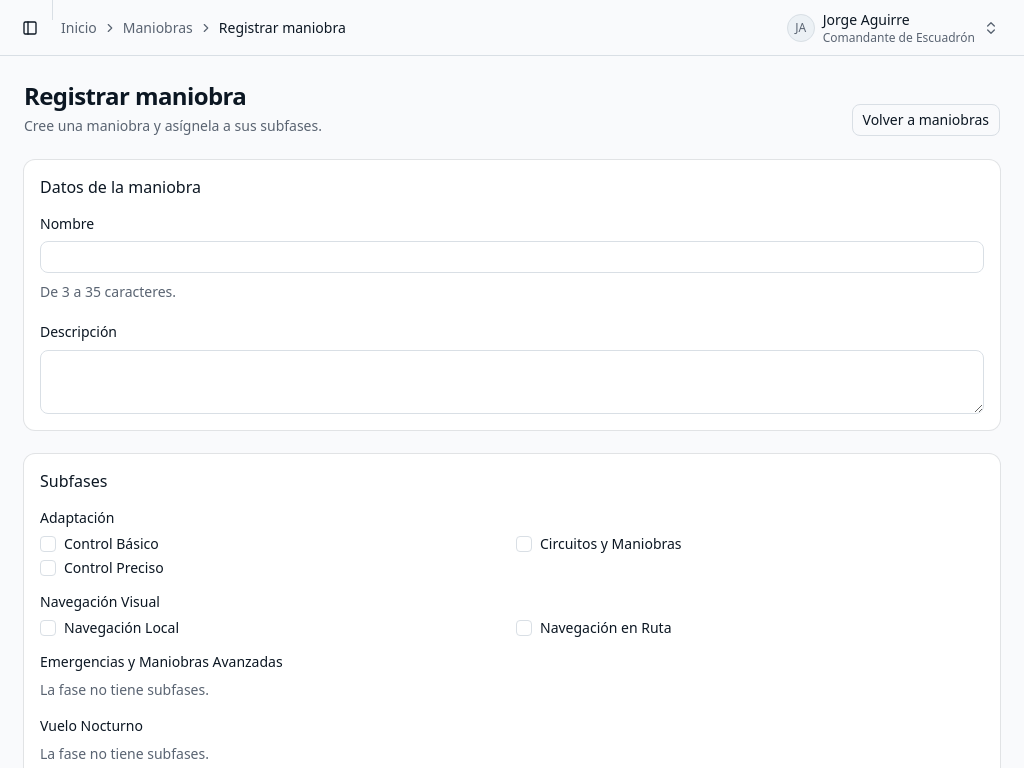
Test: Formulario de maniobra › CA-MAN-02 registra una maniobra con sus subfases agrupadas por fase
The width and height of the screenshot is (1024, 768).
Expected: the text "Adaptación" is shown, [40,508,114,526]
Expected: the number of checkboxes is 5, [40,536,56,552]; [516,536,532,552]; [40,560,56,576]; [40,620,56,636]; [516,620,532,636]
Type "Autorrotación doble" into the field labelled "Nombre".
click(512, 257); type("Autorrotación doble")  # box [40,241,984,273]
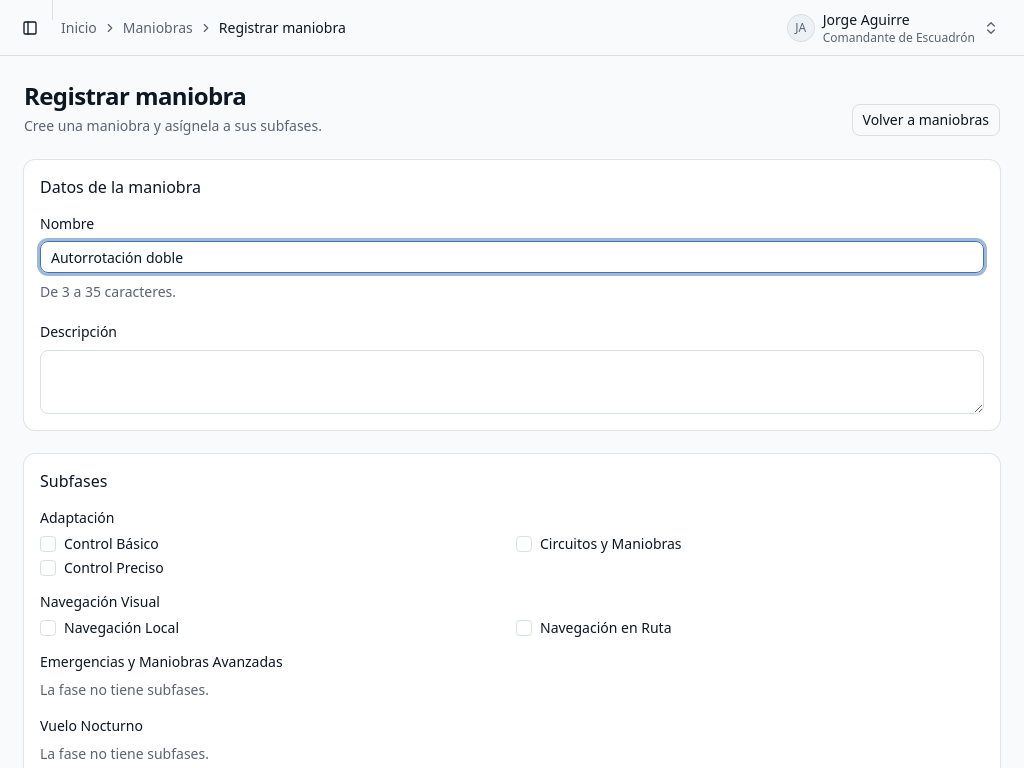
Type "Aterrizaje sin potencia" into the text box labelled "Descripción".
click(512, 382); type("Aterrizaje sin potencia")  # box [40,350,984,414]
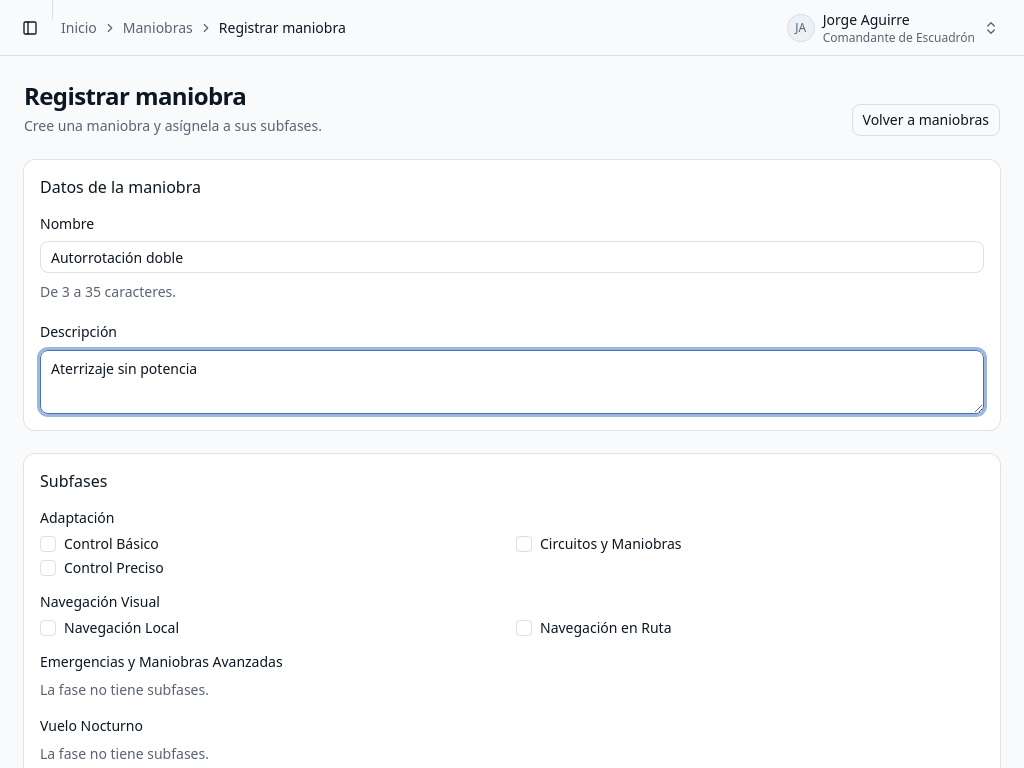
Click the checkbox named "Circuitos y Maniobras" next to "Circuitos y Maniobras".
click(524, 544)  # box [516,536,532,552]
(page scrolled)
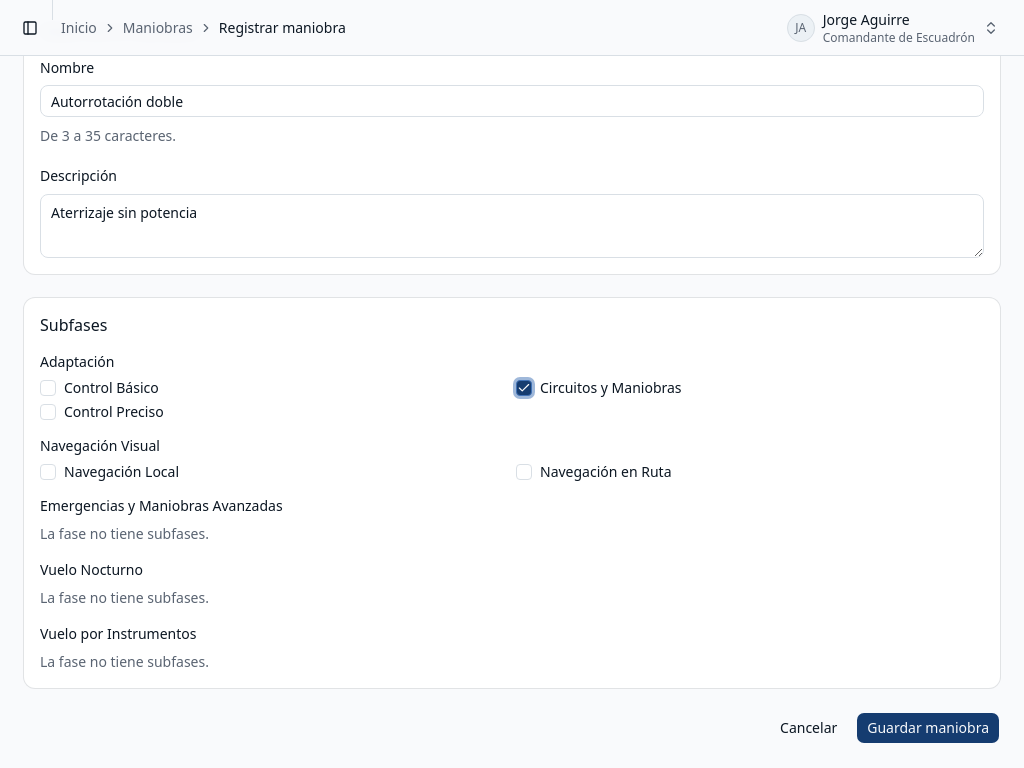
Click the button "Guardar maniobra".
click(928, 728)  # box [856,712,1000,744]
(page scrolled)
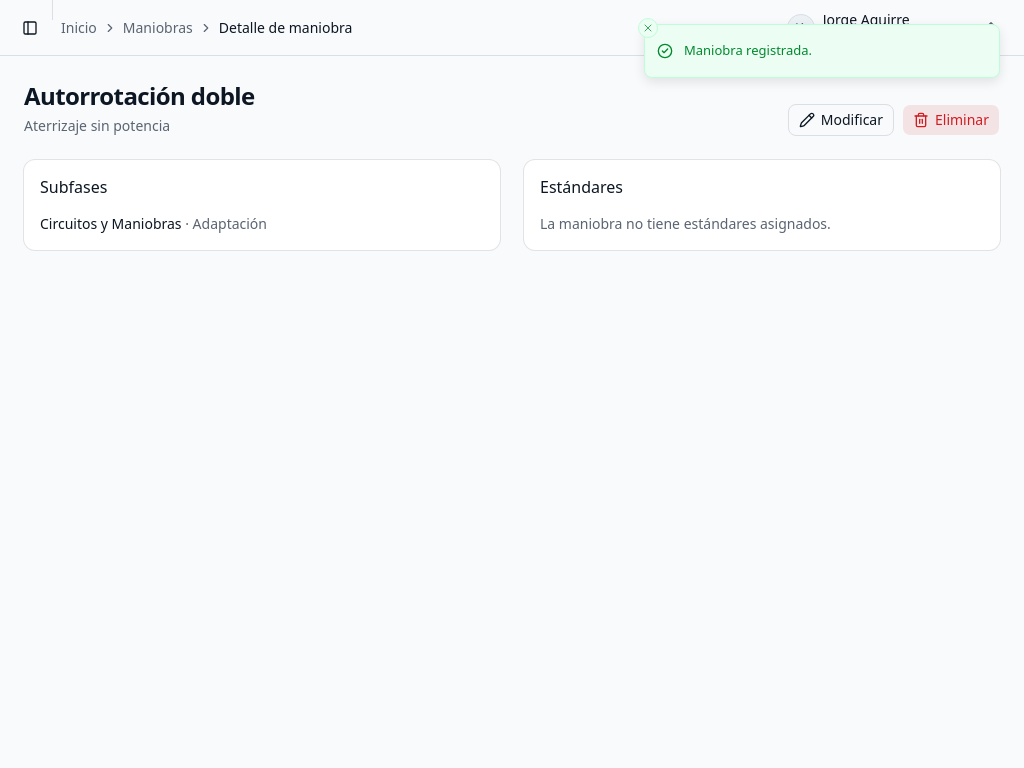
Expected: the text "Maniobra registrada." is shown, [684,41,812,60]
Expected: the heading "Autorrotación doble" is shown, [24,80,254,112]
Expected: the list item "Circuitos y Maniobras" is shown, [40,214,182,233]
